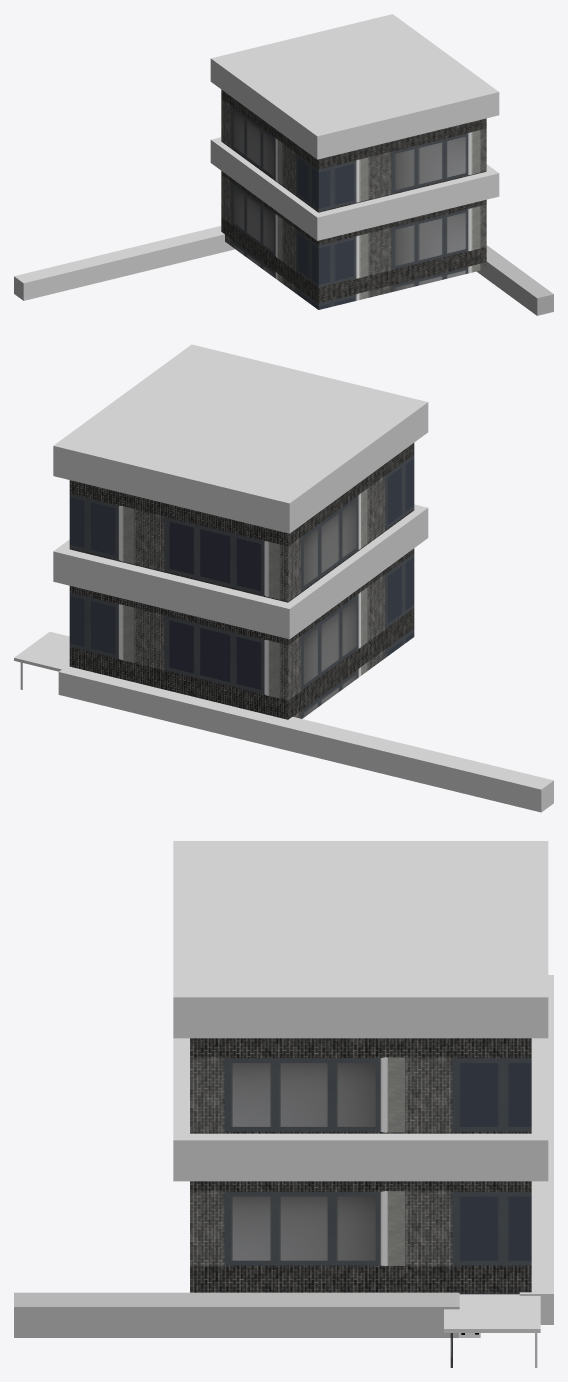
Rendered from Building.fbx.
The picture shows the model from 3 angles, top to bottom: view 1: azimuth 30°, elevation 25°; view 2: azimuth 150°, elevation 25°; view 3: azimuth 270°, elevation 25°; orthographic projection. The views are drawn at different scales.
Parts seen in each view (by area): view 1: Cube.015, Cube.009, Cube.013, Cube.014, Cube.008, Cube.007; view 2: Cube.015, Cube.009, Cube.013, Cube.008, Cube.014, Cube.006; view 3: Cube.015, Cube.009, Cube.013, Cube.014, Cube.007, Cube.008, Cube.006.
Boxes of the visible parts, x1=… form: Cube.015: x1=210, y1=14, x2=499, y2=159; Cube.009: x1=221, y1=171, x2=486, y2=309; Cube.013: x1=221, y1=89, x2=486, y2=212; Cube.014: x1=210, y1=137, x2=499, y2=240; Cube.008: x1=14, y1=226, x2=234, y2=300; Cube.007: x1=477, y1=245, x2=553, y2=315; Cube.015: x1=53, y1=344, x2=428, y2=533; Cube.009: x1=69, y1=548, x2=414, y2=719; Cube.013: x1=69, y1=443, x2=414, y2=602; Cube.008: x1=58, y1=664, x2=553, y2=812; Cube.014: x1=53, y1=504, x2=428, y2=639; Cube.006: x1=14, y1=631, x2=69, y2=671; Cube.015: x1=173, y1=841, x2=548, y2=1038; Cube.009: x1=190, y1=1181, x2=531, y2=1294; Cube.013: x1=190, y1=1038, x2=531, y2=1133; Cube.014: x1=173, y1=1038, x2=548, y2=1181; Cube.007: x1=14, y1=1292, x2=459, y2=1337; Cube.008: x1=519, y1=975, x2=553, y2=1324; Cube.006: x1=444, y1=1294, x2=540, y2=1332.
Bounding box in the file's own units: 74800 × 34360 × 48544.
